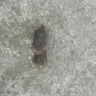Dog: (34, 25, 48, 65)
